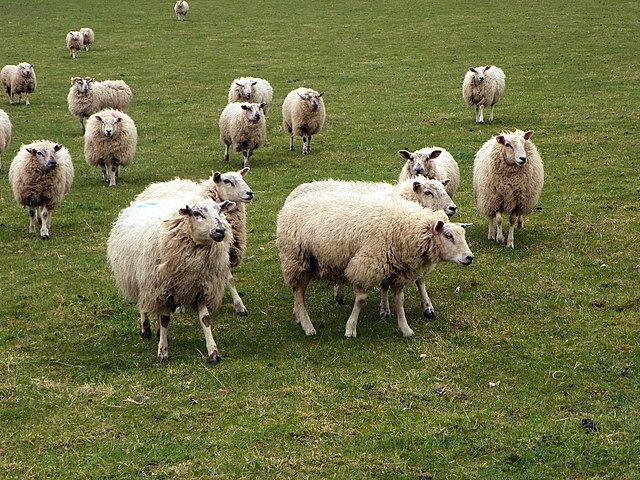standing: (107, 196, 234, 363), (474, 130, 545, 245), (8, 138, 73, 235), (84, 107, 137, 184), (217, 102, 268, 167), (282, 86, 325, 152), (463, 64, 506, 124), (2, 61, 38, 106), (64, 26, 97, 58)
